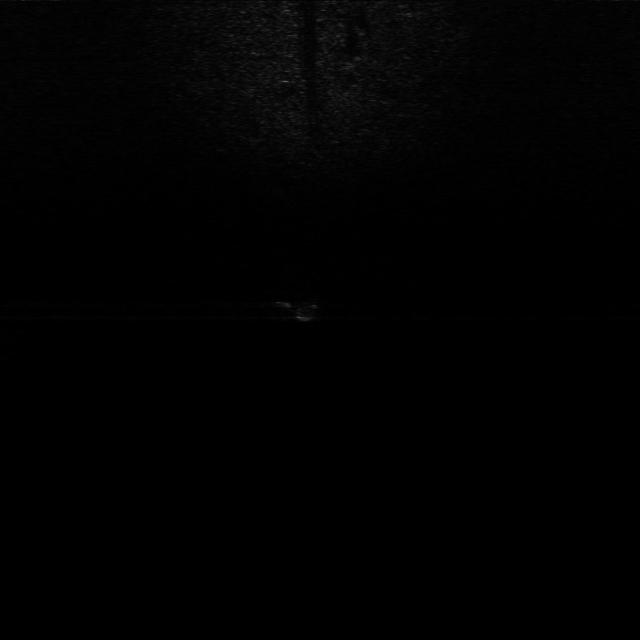human body: (267, 293, 328, 324)
